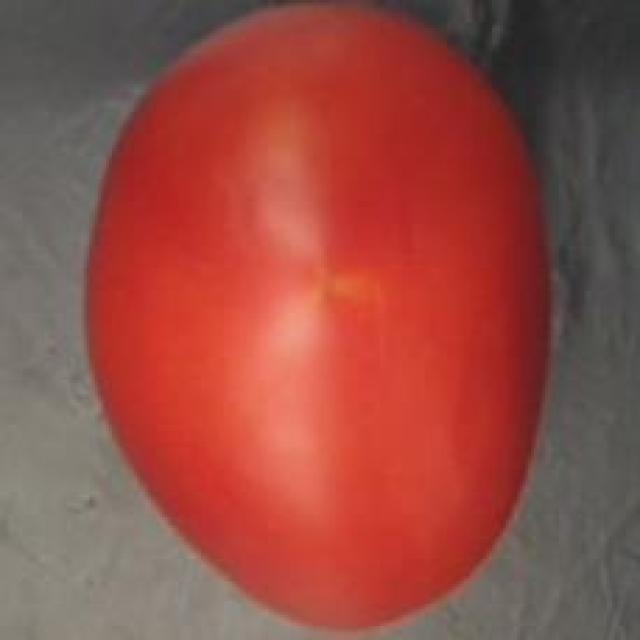ripe tomato: (75, 3, 562, 640)
